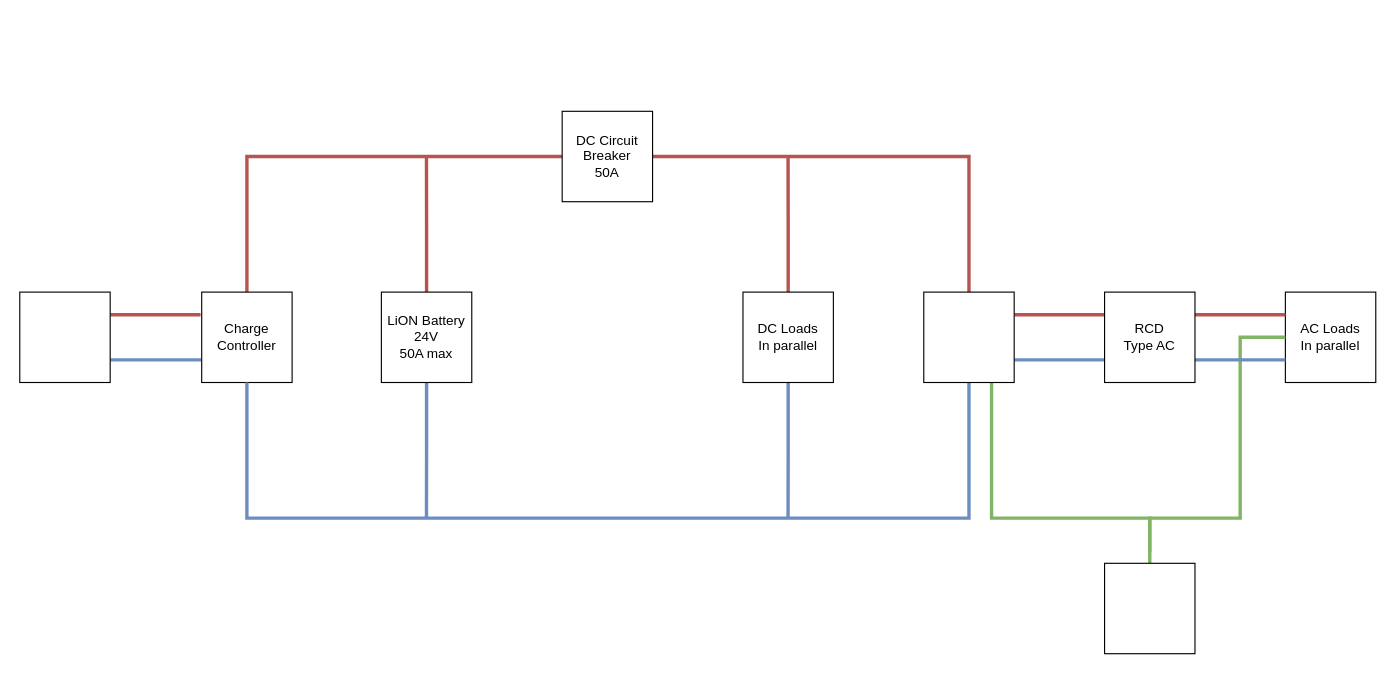
Image size: 1396x673. Some labels were removed from this diagram. The box of each missing label's shape, as (x1, y1, x2, y2) in pixels:
Earth: (1103, 562, 1195, 654)
Inverter 230V 1200VA max: (923, 291, 1014, 383)
PV Panels: (19, 291, 110, 383)
